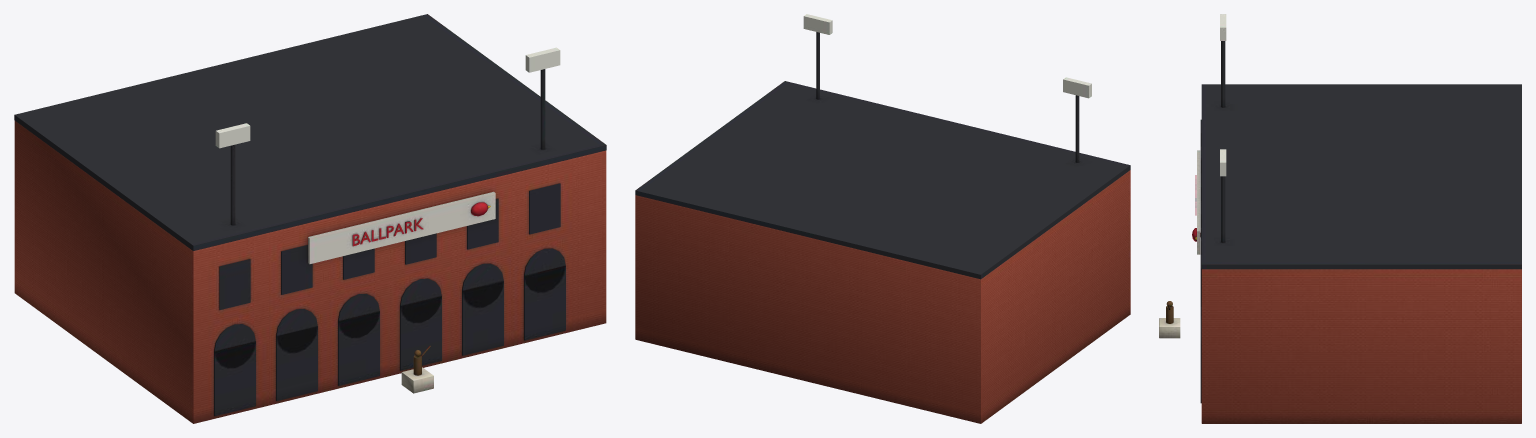
Rendered from busch_stadium.glb.
3 views of the same model, side by side, from view 1: azimuth 30°, elevation 25°; view 2: azimuth 150°, elevation 25°; view 3: azimuth 270°, elevation 25° (orthographic). The views are drawn at different scales.
Parts seen in each view (by area): view 1: busch_stadium; view 2: busch_stadium; view 3: busch_stadium.
Boxes of the visible parts, x1,y1,x2,y2 form: busch_stadium: (14, 14, 606, 423); busch_stadium: (635, 14, 1130, 423); busch_stadium: (1159, 14, 1521, 423).
Size of the model in its own units: 40 by 25.4 by 34.
1 material, 1 textured.
